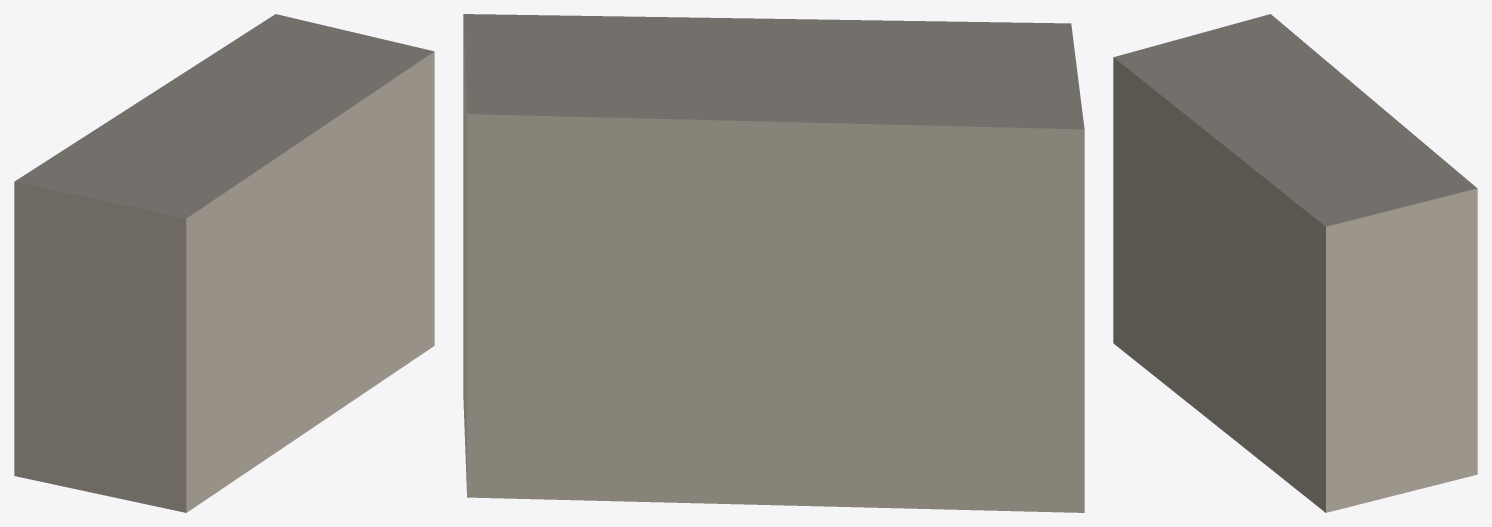
The picture shows the model from 3 angles, left to right: view 1: azimuth 30°, elevation 25°; view 2: azimuth 150°, elevation 25°; view 3: azimuth 270°, elevation 25°; orthographic projection. The views are drawn at different scales.
Visible parts, largest first — view 1: HP-w505633430; view 2: HP-w505633430; view 3: HP-w505633430.
Boxes of the visible parts, x1,y1,x2,y2 form: HP-w505633430: (14,14,434,512); HP-w505633430: (463,14,1084,512); HP-w505633430: (1113,14,1477,512).
Bounding box in the file's own units: 19.13 × 12 × 13.84.
